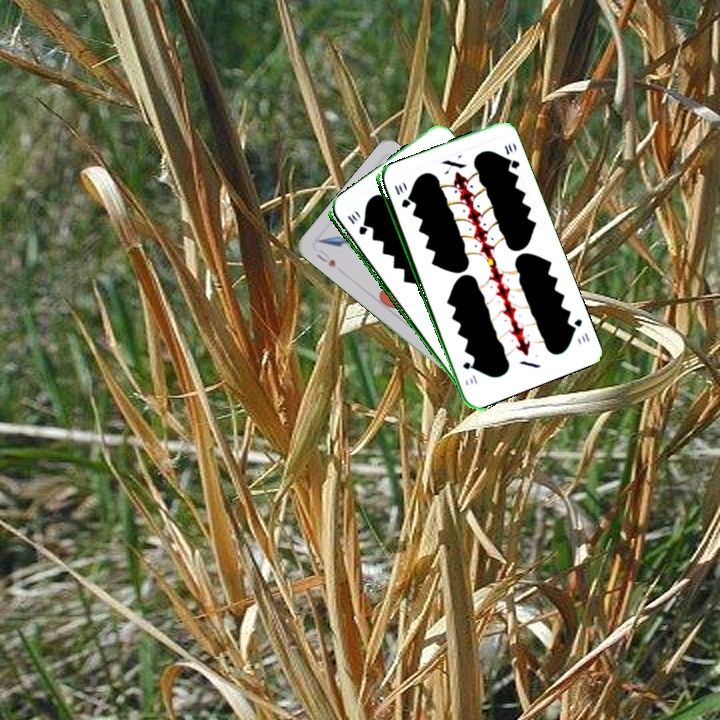G10: (566, 314, 592, 344), (343, 209, 368, 238), (390, 180, 411, 210)
HU: (312, 245, 339, 270)
